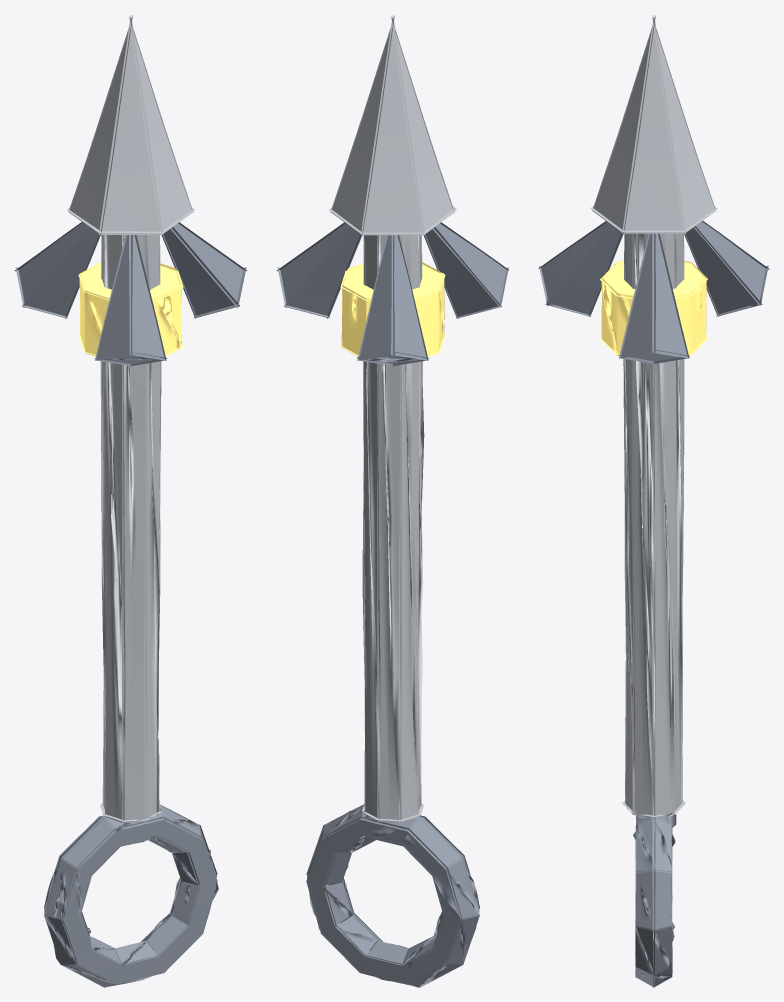
Rendered from harpoon.glb.
The picture shows the model from 3 angles, left to right: view 1: azimuth 30°, elevation 25°; view 2: azimuth 150°, elevation 25°; view 3: azimuth 270°, elevation 25°; orthographic projection.
Parts seen in each view (by area): view 1: PangHarpoonEye; view 2: PangHarpoonEye; view 3: PangHarpoonEye.
Boxes of the visible parts, x1,y1,x2,y2 form: PangHarpoonEye: [15, 15, 247, 987]; PangHarpoonEye: [276, 15, 508, 987]; PangHarpoonEye: [538, 15, 769, 987].
Size of the model in its own units: 0.4718 by 2.15 by 0.4709.
